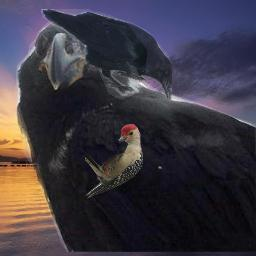Crow: (13, 17, 256, 252), (41, 9, 172, 99)
Woodpecker: (85, 124, 143, 200)
